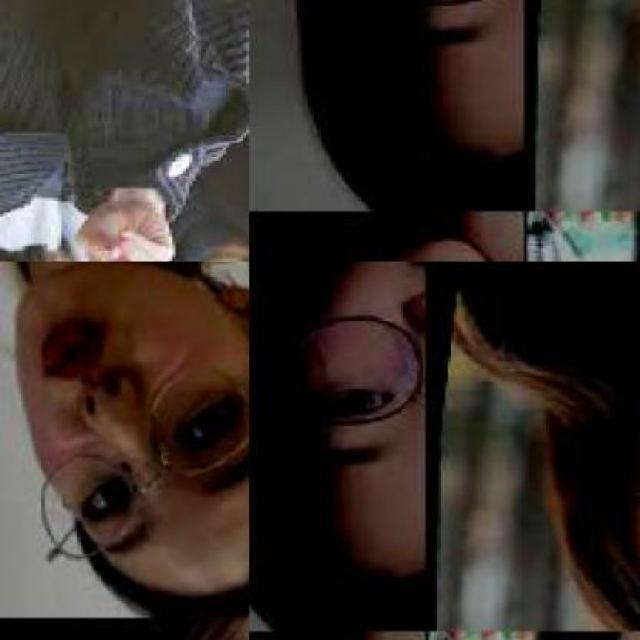glasses: (16, 367, 246, 558), (260, 295, 426, 454)
